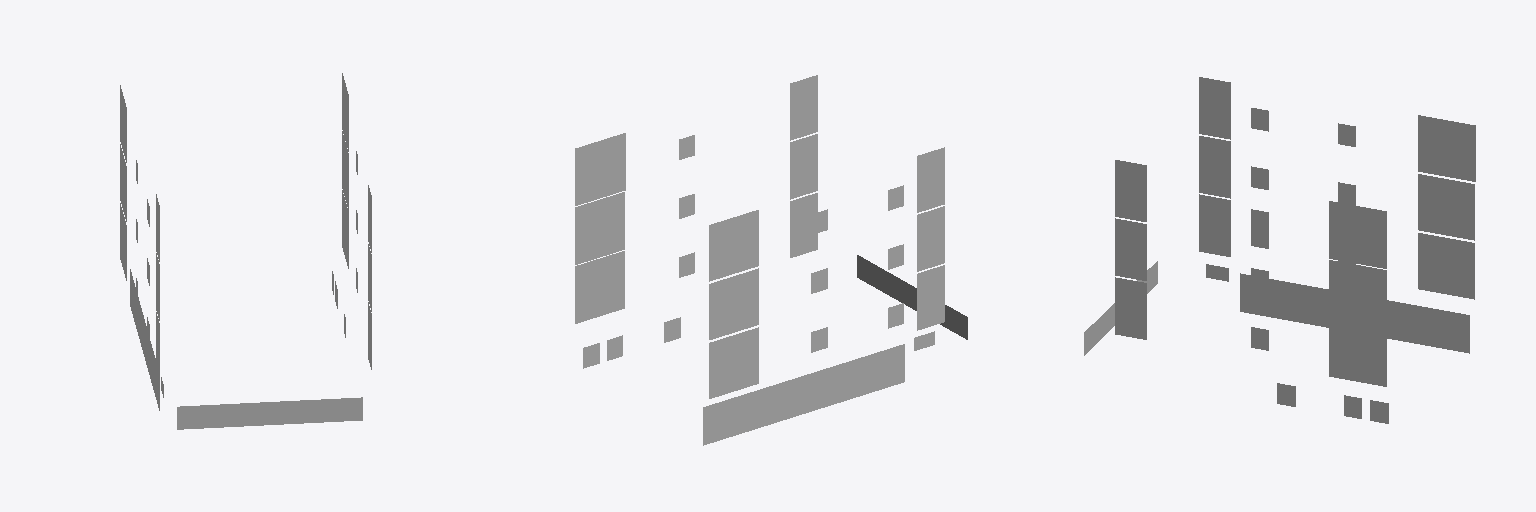
File: BuildingLow2Window.obj
3 renders of one model, left to right at view 1: azimuth 30°, elevation 25°; view 2: azimuth 150°, elevation 25°; view 3: azimuth 270°, elevation 25°, orthographic.
Parts seen in each view (by area): view 1: Residential_Buildings_002_Cube.001; view 2: Residential_Buildings_002_Cube.001; view 3: Residential_Buildings_002_Cube.001.
Part boxes in pixels (x1,y1,x2,y2): Residential_Buildings_002_Cube.001: (120, 73, 371, 429); Residential_Buildings_002_Cube.001: (575, 75, 967, 445); Residential_Buildings_002_Cube.001: (1084, 77, 1475, 423).
Bounding box in the file's own units: 4.27 × 3.29 × 5.19.